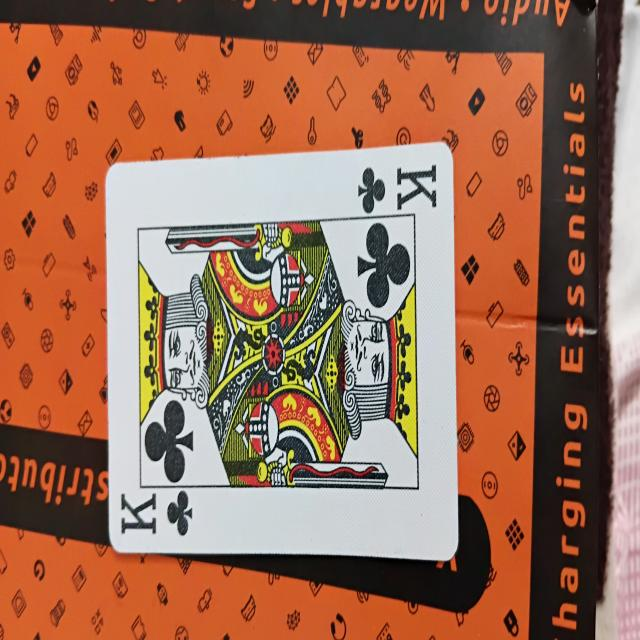KC: (107, 138, 457, 559)
